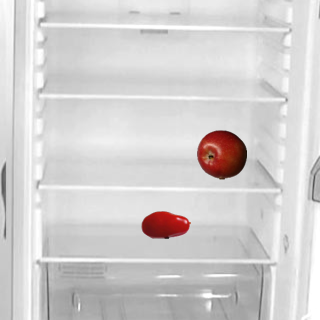Apple Braeburn: (196, 129, 246, 179)
Tomato 2: (140, 199, 190, 249)
